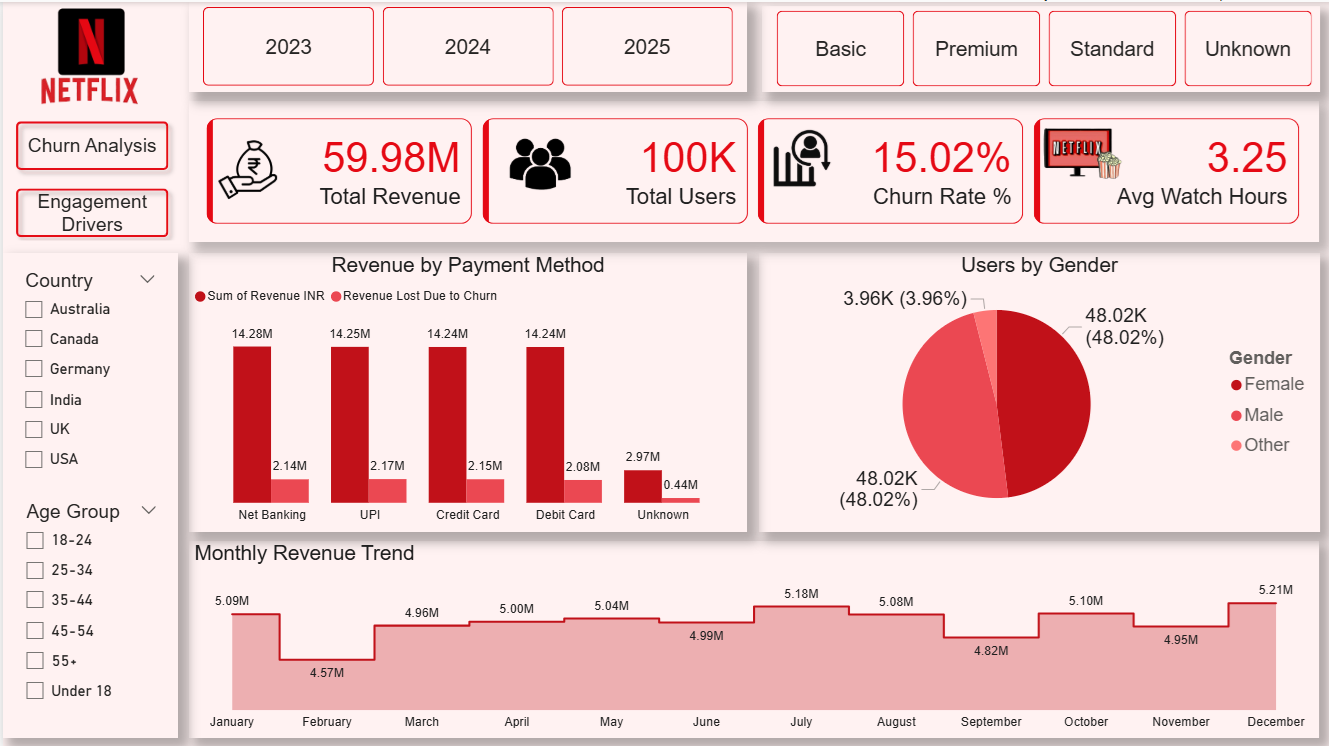

This screenshot's page, from the dashboard's own definition file:
{"tool":"powerbi","page":{"name":"Overview","canvas":[1280,720],"ordinal":0},"visuals":[{"type":"cardVisual","fields":{"Data":["Sum(Netflix_Cleaned_Analytics_File.Revenue_INR)","CountNonNull(Netflix_Cleaned_Analytics_File.User_ID)","Netflix_Cleaned_Analytics_File.Churn Rate %","Avg(Netflix_Cleaned_Analytics_File.Watch_Hours)"]},"box":[179.8,95.3,1090.6,136.3],"z":0},{"type":"clusteredColumnChart","title":"Revenue by Payment Method","fields":{"Category":["Netflix_Cleaned_Analytics_File.Payment_Method"],"Y":["Sum(Netflix_Cleaned_Analytics_File.Revenue_INR)","Netflix_Cleaned_Analytics_File.Revenue Lost Due to Churn"]},"box":[179.8,242.5,538.1,269],"z":1000},{"type":"pieChart","title":"Users by Gender","fields":{"Category":["Netflix_Cleaned_Analytics_File.Gender"],"Y":["CountNonNull(Netflix_Cleaned_Analytics_File.User_ID)"]},"box":[729.9,242.5,540.5,269],"z":2000},{"type":"areaChart","title":"Monthly Revenue Trend","fields":{"Y":["Sum(Netflix_Cleaned_Analytics_File.Revenue_INR)"],"Category":["Netflix_Cleaned_Analytics_File.Date.Variation.Date Hierarchy.Month"]},"box":[179.8,520,1090.6,190.6],"z":3000},{"type":"shape","box":[0,242.5,168.9,468.1],"z":4000},{"type":"shape","box":[732.3,3.6,538.1,83.2],"z":5000},{"type":"slicer","fields":{"Values":["Netflix_Cleaned_Analytics_File.Country"]},"box":[8.4,253.4,150.8,213.5],"z":6000},{"type":"advancedSlicerVisual","fields":{"Values":["Netflix_Cleaned_Analytics_File.Subscription_Type"]},"box":[742,3.6,528.4,83.2],"z":7000},{"type":"slicer","fields":{"Values":["Netflix_Cleaned_Analytics_File.Age_Group"]},"box":[9.7,476.5,150.8,218.4],"z":8000},{"type":"shape","box":[179.8,0,538.1,86.9],"z":9000},{"type":"advancedSlicerVisual","fields":{"Values":["Netflix_Cleaned_Analytics_File.Date.Variation.Date Hierarchy.Year"]},"box":[188.2,0,521.2,86.9],"z":10000},{"type":"image","box":[203.4,120.8,64.8,82.6],"z":11000},{"type":"image","box":[980,99.1,124.6,94.1],"z":12000},{"type":"image","box":[729.6,109.3,83.9,83.9],"z":13000},{"type":"image","box":[465.2,109.3,105.5,94.1],"z":14000},{"type":"pageNavigator","box":[3.9,106.1,165.1,125.8],"z":15000},{"type":"image","box":[19.7,3.9,132.3,69.4],"z":16000},{"type":"image","box":[3.9,52.4,159.8,68.1],"z":17000}]}

Visuals, with their boxes in screenshot pixels (x1, y1, x2, y2), scaled from the page's 1280x720 canvas onto the 1329x746 screenshot:
cardVisual - Sum(Netflix_Cleaned_Analytics_File.Revenue_INR) x CountNonNull(Netflix_Cleaned_Analytics_File.User_ID): 187/99/1319/240
"Revenue by Payment Method" clusteredColumnChart: 187/251/745/530
"Users by Gender" pieChart: 758/251/1319/530
"Monthly Revenue Trend" areaChart: 187/539/1319/736
shape: 0/251/175/736
shape: 760/4/1319/90
slicer - Netflix_Cleaned_Analytics_File.Country: 9/263/165/484
advancedSlicerVisual - Netflix_Cleaned_Analytics_File.Subscription_Type: 770/4/1319/90
slicer - Netflix_Cleaned_Analytics_File.Age_Group: 10/494/167/720
shape: 187/0/745/90
advancedSlicerVisual - Netflix_Cleaned_Analytics_File.Date.Variation.Date Hierarchy.Year: 195/0/737/90
image: 211/125/278/211
image: 1018/103/1147/200
image: 758/113/845/200
image: 483/113/593/211
pageNavigator: 4/110/175/240
image: 20/4/158/76
image: 4/54/170/125
